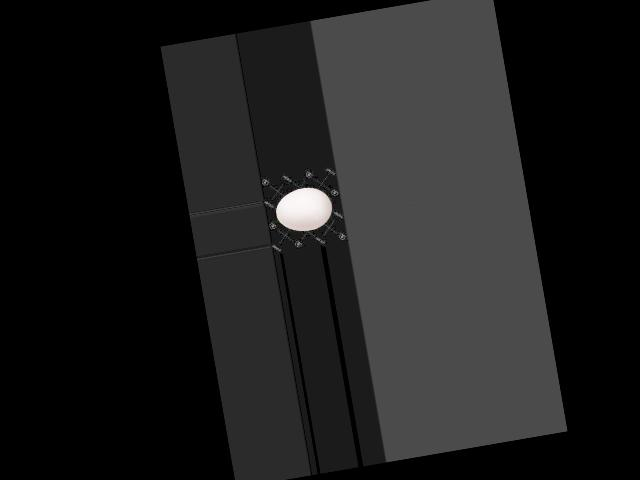egg: (273, 183, 335, 234)
